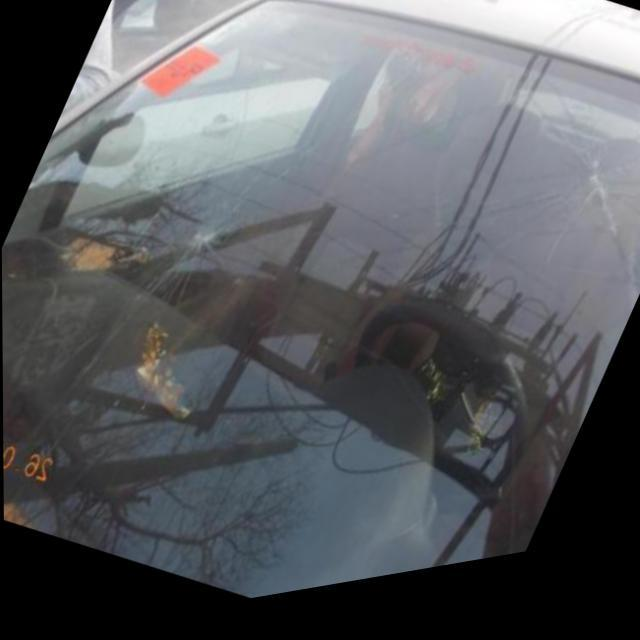glass shatter: (522, 141, 640, 276), (122, 186, 241, 311)
